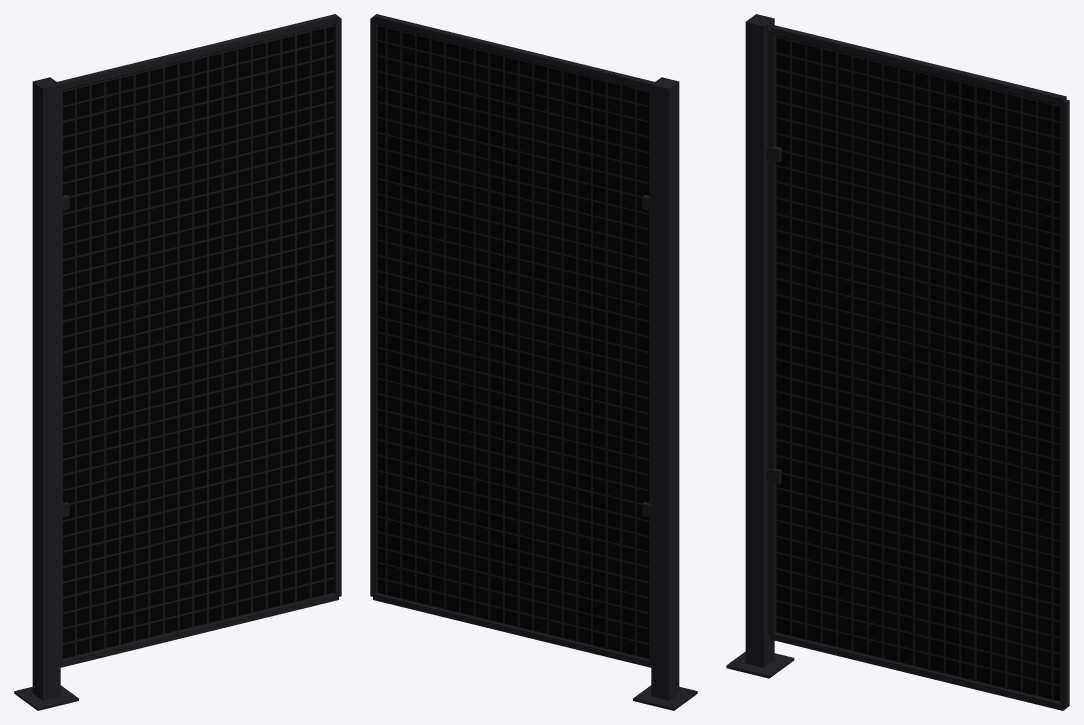
Rendered from fence_panel_1m.glb.
3 views of the same model, side by side, from view 1: azimuth 30°, elevation 25°; view 2: azimuth 150°, elevation 25°; view 3: azimuth 330°, elevation 25° (orthographic). The views are drawn at different scales.
Parts seen in each view (by area): view 1: Fence_Panel_wire_mesh_black, Fence_Panel_black_paint; view 2: Fence_Panel_wire_mesh_black, Fence_Panel_black_paint; view 3: Fence_Panel_wire_mesh_black, Fence_Panel_black_paint.
Boxes of the visible parts, x1,y1,x2,y2 form: Fence_Panel_wire_mesh_black: (63, 24, 334, 659); Fence_Panel_black_paint: (14, 14, 341, 710); Fence_Panel_wire_mesh_black: (377, 24, 648, 659); Fence_Panel_black_paint: (370, 14, 697, 710); Fence_Panel_wire_mesh_black: (775, 35, 1059, 701); Fence_Panel_black_paint: (726, 14, 1069, 710).
Bounding box in the file's own units: 1.07 × 2 × 0.14.
2 materials, 1 textured.
